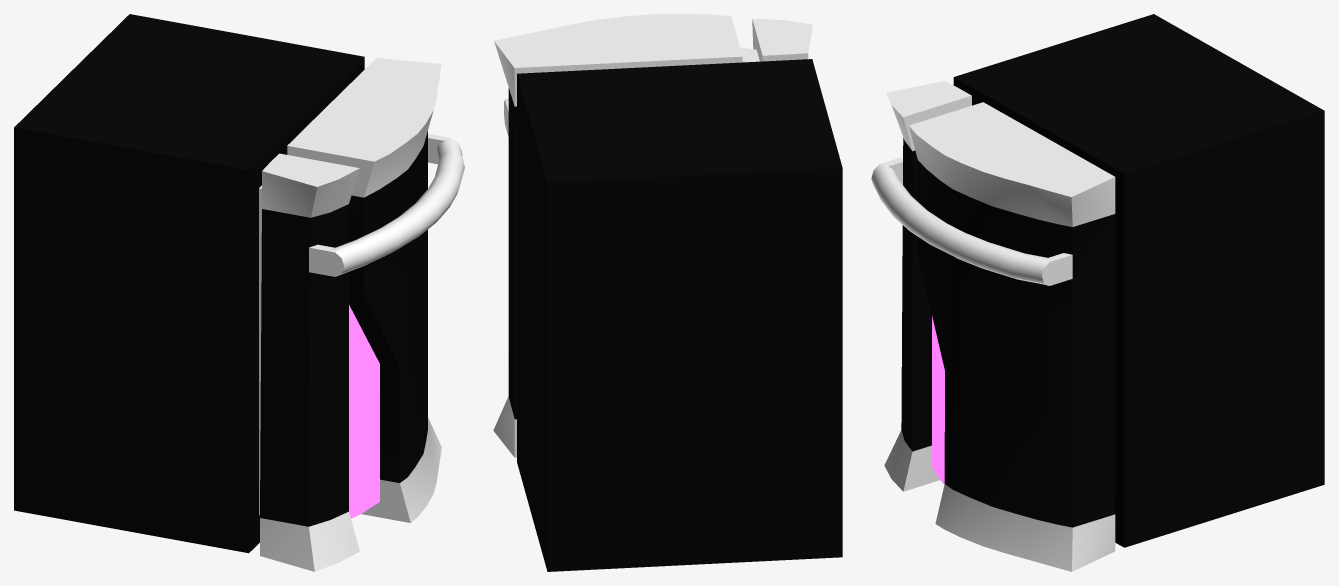
The model's file is B_fridge_low_Jan12.fbx.
3 views of the same model, side by side, from view 1: azimuth 30°, elevation 25°; view 2: azimuth 150°, elevation 25°; view 3: azimuth 270°, elevation 25° (orthographic). The views are drawn at different scales.
Parts seen in each view (by area): view 1: base_low001; view 2: base_low001; view 3: base_low001.
Boxes of the visible parts, x1,y1,x2,y2 form: base_low001: (14,14,464,571); base_low001: (493,14,842,571); base_low001: (871,14,1324,571).
Size of the model in its own units: 67.47 by 63.28 by 69.42.
